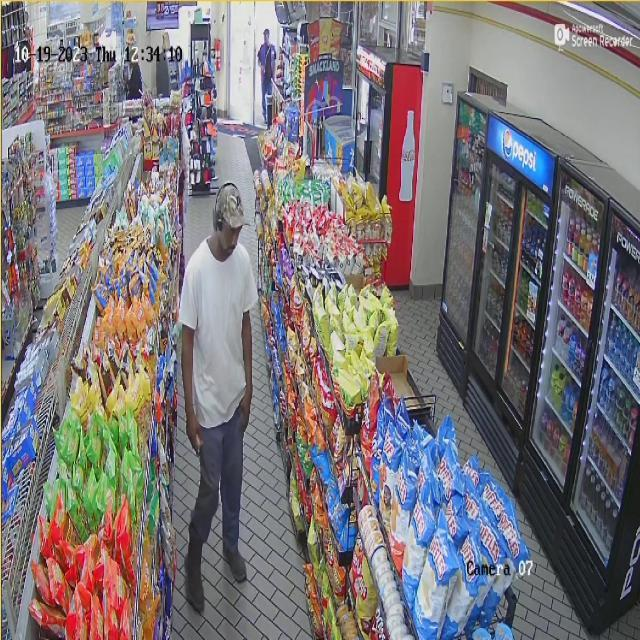normal: (179, 168, 259, 622), (253, 22, 278, 132)
